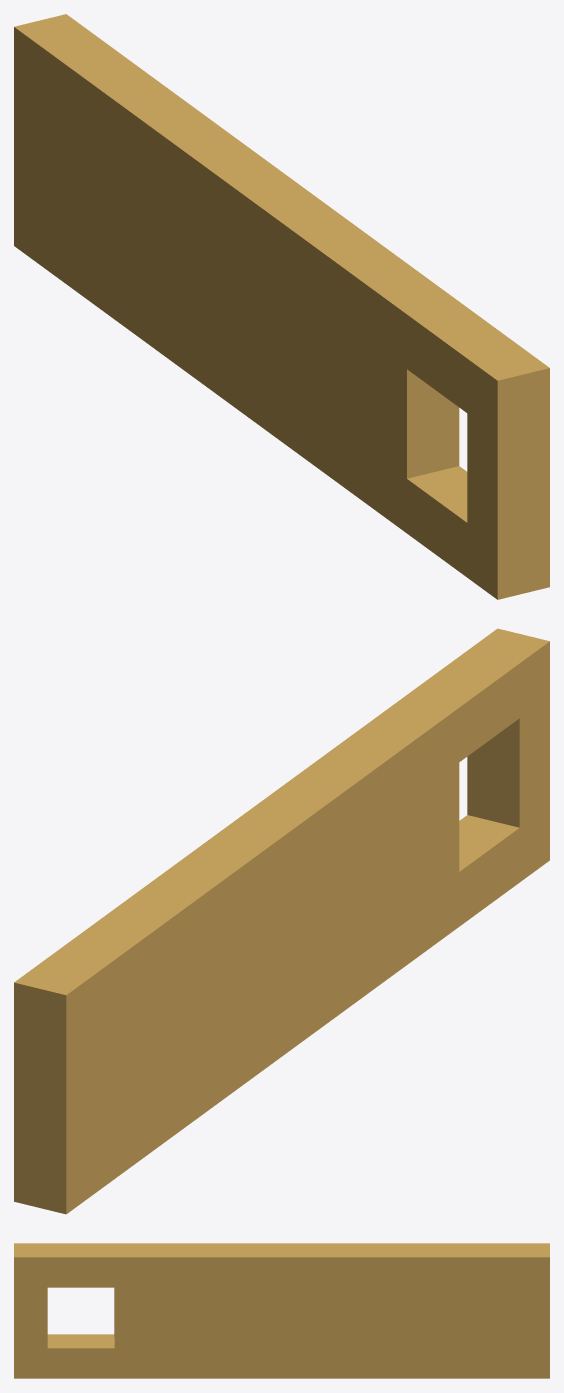
The model's file is pared2c.obj.
3 views of the same model, one above another, from view 1: azimuth 30°, elevation 25°; view 2: azimuth 150°, elevation 25°; view 3: azimuth 270°, elevation 25° (orthographic). The views are drawn at different scales.
Visible parts, largest first — view 1: Wall.004; view 2: Wall.004; view 3: Wall.004.
Boxes of the visible parts, <box> form: Wall.004: <box>14,14,549,599</box>; Wall.004: <box>14,628,549,1214</box>; Wall.004: <box>14,1243,549,1378</box>.
Size of the model in its own units: 1 by 4 by 16.
Materials: 4 (4 with a texture image).
